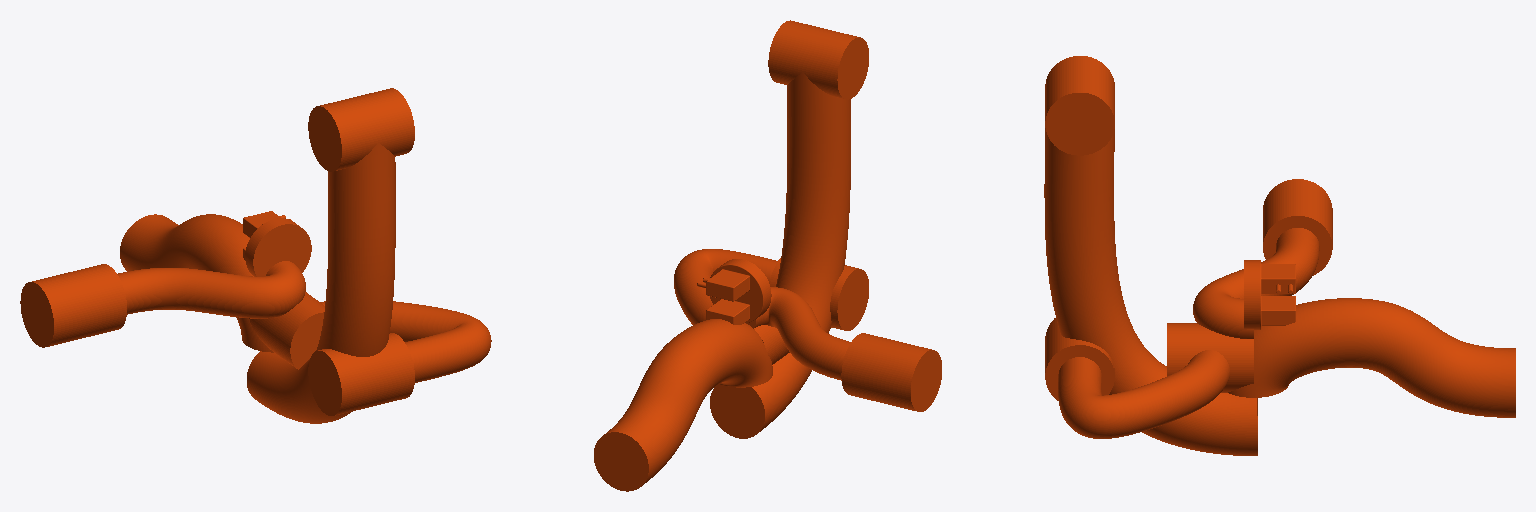
URDF robot description (iiwa7):
<?xml version='1.0' encoding='utf-8'?>
<robot name="iiwa7">
  <material name="Black">
    <color rgba="0.0 0.0 0.0 1.0" />
  </material>
  <material name="Blue">
    <color rgba="0.0 0.0 0.8 1.0" />
  </material>
  <material name="Green">
    <color rgba="0.0 0.8 0.0 1.0" />
  </material>
  <material name="Grey">
    <color rgba="0.4 0.4 0.4 1.0" />
  </material>
  <material name="Orange">
    <color rgba="1.0 0.4235294117647059 0.0392156862745098 1.0" />
  </material>
  <material name="Brown">
    <color rgba="0.8705882352941177 0.8117647058823529 0.7647058823529411 1.0" />
  </material>
  <material name="Red">
    <color rgba="0.8 0.0 0.0 1.0" />
  </material>
  <material name="White">
    <color rgba="1.0 1.0 1.0 1.0" />
  </material>
  <material name="Anthracite">
    <color rgba="0.16 0.17 0.19 1.0" />
  </material>
  <material name="MutedOrange">
    <color rgba="0.82 0.32 0.08 1.0" />
  </material>
  <material name="GreyishBlack">
    <color rgba="0.10 0.11 0.12 1.0" />
  </material>
  <link name="world" />
  <joint name="world_iiwa_joint" type="fixed">
    <origin rpy="0 0 0" xyz="0 0 0" />
    <parent link="world" />
    <child link="iiwa_link_0" />
  </joint>
  <link name="iiwa_link_0">
    <inertial>
      <origin rpy="0 0 0" xyz="-0.1 0 0.07" />
      <mass value="5" />
      <inertia ixx="0.05" ixy="0" ixz="0" iyy="0.06" iyz="0" izz="0.03" />
    </inertial>
    <visual>
      <origin rpy="0 0 0" xyz="0 0 0" />
      <geometry>
        <mesh filename="package://iiwa_description/meshes/iiwa7/visual/link_0.stl" />
      </geometry>
      <material name="Anthracite" />
    </visual>
    <collision>
      <origin rpy="0 0 0" xyz="0 0 0" />
      <geometry>
        <mesh filename="package://iiwa_description/meshes/iiwa7/collision/link_0.stl" />
      </geometry>
      <material name="Grey" />
    </collision>
    <self_collision_checking>
      <origin rpy="0 0 0" xyz="0 0 0" />
      <geometry>
        <capsule length="0.25" radius="0.15" />
      </geometry>
    </self_collision_checking>
  </link>
  <joint name="iiwa_joint_1" type="revolute">
    <parent link="iiwa_link_0" />
    <child link="iiwa_link_1" />
    <origin rpy="0 0 0" xyz="0 0 0.15" />
    <axis xyz="0 0 1" />
    <limit effort="300" lower="-2.9670597283903604" upper="2.9670597283903604" velocity="10" />
    <safety_controller k_position="100" k_velocity="2" soft_lower_limit="-2.9321531433504737" soft_upper_limit="2.9321531433504737" />
    <dynamics damping="0.5" />
  </joint>
  <link name="iiwa_link_1">
    <inertial>
      <origin rpy="0 0 0" xyz="0 -0.03 0.12" />
      <mass value="3.4525" />
      <inertia ixx="0.02183" ixy="0" ixz="0" iyy="0.007703" iyz="-0.003887" izz="0.02083" />
    </inertial>
    <visual>
      <origin rpy="1.5707963267948966 0 0" xyz="0 0 -0.0075" />
      <geometry>
        <mesh filename="package://iiwa_description/meshes/iiwa7/visual/link_1.stl" />
      </geometry>
      <material name="MutedOrange" />
    </visual>
    <collision>
      <origin rpy="0 0 0" xyz="0 0 0.0075" />
      <geometry>
        <mesh filename="package://iiwa_description/meshes/iiwa7/collision/link_1.stl" />
      </geometry>
      <material name="Orange" />
    </collision>
  </link>
  <joint name="iiwa_joint_2" type="revolute">
    <parent link="iiwa_link_1" />
    <child link="iiwa_link_2" />
    <origin rpy="1.5707963267948966   0 3.141592653589793" xyz="0 0 0.19" />
    <axis xyz="0 0 1" />
    <limit effort="300" lower="-2.0943951023931953" upper="2.0943951023931953" velocity="10" />
    <safety_controller k_position="100" k_velocity="2" soft_lower_limit="-2.0594885173533086" soft_upper_limit="2.0594885173533086" />
    <dynamics damping="0.5" />
  </joint>
  <link name="iiwa_link_2">
    <inertial>
      <origin rpy="0 0 0" xyz="0.0003 0.059 0.042" />
      <mass value="3.4821" />
      <inertia ixx="0.02076" ixy="0" ixz="-0.003626" iyy="0.02179" iyz="0" izz="0.00779" />
    </inertial>
    <visual>
      <origin rpy="0 -1.5707963267948966 0" xyz="0 0 0" />
      <geometry>
        <mesh filename="package://iiwa_description/meshes/iiwa7/visual/link_2.stl" />
      </geometry>
      <material name="MutedOrange" />
    </visual>
    <collision>
      <origin rpy="0 0 0" xyz="0 0 0" />
      <geometry>
        <mesh filename="package://iiwa_description/meshes/iiwa7/collision/link_2.stl" />
      </geometry>
      <material name="Orange" />
    </collision>
  </link>
  <joint name="iiwa_joint_3" type="revolute">
    <parent link="iiwa_link_2" />
    <child link="iiwa_link_3" />
    <origin rpy="1.5707963267948966 0 3.141592653589793" xyz="0 0.21 0" />
    <axis xyz="0 0 1" />
    <limit effort="300" lower="-2.9670597283903604" upper="2.9670597283903604" velocity="10" />
    <safety_controller k_position="100" k_velocity="2" soft_lower_limit="-2.9321531433504737" soft_upper_limit="2.9321531433504737" />
    <dynamics damping="0.5" />
  </joint>
  <link name="iiwa_link_3">
    <inertial>
      <origin rpy="0 0 0" xyz="0 0.03 0.13" />
      <mass value="4.05623" />
      <inertia ixx="0.03204" ixy="0" ixz="0" iyy="0.00972" iyz="0.006227" izz="0.03042" />
    </inertial>
    <visual>
      <origin rpy="0 0 1.5707963267948966" xyz="0 0 0.026" />
      <geometry>
        <mesh filename="package://iiwa_description/meshes/iiwa7/visual/link_3.stl" />
      </geometry>
      <material name="MutedOrange" />
    </visual>
    <collision>
      <origin rpy="0 0 0" xyz="0 0 -0.026" />
      <geometry>
        <mesh filename="package://iiwa_description/meshes/iiwa7/collision/link_3.stl" />
      </geometry>
      <material name="Orange" />
    </collision>
  </link>
  <joint name="iiwa_joint_4" type="revolute">
    <parent link="iiwa_link_3" />
    <child link="iiwa_link_4" />
    <origin rpy="1.5707963267948966 0 0" xyz="0 0 0.19" />
    <axis xyz="0 0 1" />
    <limit effort="300" lower="-2.0943951023931953" upper="2.0943951023931953" velocity="10" />
    <safety_controller k_position="100" k_velocity="2" soft_lower_limit="-2.0594885173533086" soft_upper_limit="2.0594885173533086" />
    <dynamics damping="0.5" />
  </joint>
  <link name="iiwa_link_4">
    <inertial>
      <origin rpy="0 0 0" xyz="0 0.067 0.034" />
      <mass value="3.4822" />
      <inertia ixx="0.02178" ixy="0" ixz="0" iyy="0.02075" iyz="-0.003625" izz="0.007785" />
    </inertial>
    <visual>
      <origin rpy="0 0 0" xyz="0 0 0" />
      <geometry>
        <mesh filename="package://iiwa_description/meshes/iiwa7/visual/link_4.stl" />
      </geometry>
      <material name="MutedOrange" />
    </visual>
    <collision>
      <origin rpy="0 0 0" xyz="0 0 0" />
      <geometry>
        <mesh filename="package://iiwa_description/meshes/iiwa7/collision/link_4.stl" />
      </geometry>
      <material name="Orange" />
    </collision>
  </link>
  <joint name="iiwa_joint_5" type="revolute">
    <parent link="iiwa_link_4" />
    <child link="iiwa_link_5" />
    <origin rpy="-1.5707963267948966 3.141592653589793 0" xyz="0 0.21 0" />
    <axis xyz="0 0 1" />
    <limit effort="300" lower="-2.9670597283903604" upper="2.9670597283903604" velocity="10" />
    <safety_controller k_position="100" k_velocity="2" soft_lower_limit="-2.9321531433504737" soft_upper_limit="2.9321531433504737" />
    <dynamics damping="0.5" />
  </joint>
  <link name="iiwa_link_5">
    <inertial>
      <origin rpy="0 0 0" xyz="0.0001 0.021 0.076" />
      <mass value="2.1633" />
      <inertia ixx="0.01287" ixy="0" ixz="0" iyy="0.005708" iyz="-0.003946" izz="0.01112" />
    </inertial>
    <visual>
      <origin rpy="-1.5707963267948966 0 0" xyz="0 0 0.026" />
      <geometry>
        <mesh filename="package://iiwa_description/meshes/iiwa7/visual/link_5.stl" />
      </geometry>
      <material name="MutedOrange" />
    </visual>
    <collision>
      <origin rpy="0 0 0" xyz="0 0 -0.026" />
      <geometry>
        <mesh filename="package://iiwa_description/meshes/iiwa7/collision/link_5.stl" />
      </geometry>
      <material name="Orange" />
    </collision>
  </link>
  <joint name="iiwa_joint_6" type="revolute">
    <parent link="iiwa_link_5" />
    <child link="iiwa_link_6" />
    <origin rpy="1.5707963267948966 0 0" xyz="0 0.06070 0.19" />
    <axis xyz="0 0 1" />
    <limit effort="300" lower="-2.0943951023931953" upper="2.0943951023931953" velocity="10" />
    <safety_controller k_position="100" k_velocity="2" soft_lower_limit="-2.0594885173533086" soft_upper_limit="2.0594885173533086" />
    <dynamics damping="0.5" />
  </joint>
  <link name="iiwa_link_6">
    <inertial>
      <origin rpy="0 0 0" xyz="0 0.0006 0.0004" />
      <mass value="2.3466" />
      <inertia ixx="0.006509" ixy="0" ixz="0" iyy="0.006259" iyz="0.00031891" izz="0.004527" />
    </inertial>
    <visual>
      <origin rpy="0 0 0" xyz="0 0 0" />
      <geometry>
        <mesh filename="package://iiwa_description/meshes/iiwa7/visual/link_6.stl" />
      </geometry>
      <material name="MutedOrange" />
    </visual>
    <collision>
      <origin rpy="0 0 0" xyz="0 0 0" />
      <geometry>
        <mesh filename="package://iiwa_description/meshes/iiwa7/collision/link_6.stl" />
      </geometry>
      <material name="Orange" />
    </collision>
  </link>
  <joint name="iiwa_joint_7" type="revolute">
    <parent link="iiwa_link_6" />
    <child link="iiwa_link_7" />
    <origin rpy="-1.5707963267948966 3.141592653589793 0" xyz="0 0.081 0.06070" />
    <axis xyz="0 0 1" />
    <limit effort="300" lower="-3.0543261909900763" upper="3.0543261909900763" velocity="10" />
    <safety_controller k_position="100" k_velocity="2" soft_lower_limit="-3.01941960595019" soft_upper_limit="3.01941960595019" />
    <dynamics damping="0.5" />
  </joint>
  <link name="iiwa_link_7">
    <inertial>
      <origin rpy="0 0 0" xyz="0 0 0.02" />
      <mass value="3.129" />
      <inertia ixx="0.01464" ixy="0.0005912" ixz="0" iyy="0.01465" iyz="0" izz="0.002872" />
    </inertial>
    <visual>
      <origin rpy="0 0 -1.5707963267948966" xyz="0 0 0.0005" />
      <geometry>
        <mesh filename="package://iiwa_description/meshes/iiwa7/visual/link_7.stl" />
      </geometry>
      <material name="GreyishBlack" />
    </visual>
    <collision>
      <origin rpy="0 0 0" xyz="0 0 -0.0005" />
      <geometry>
        <mesh filename="package://iiwa_description/meshes/iiwa7/collision/link_7.stl" />
      </geometry>
      <material name="Grey" />
    </collision>
  </link>
  <joint name="iiwa_joint_ee" type="fixed">
    <parent link="iiwa_link_7" />
    <child link="iiwa_link_ee" />
    <origin rpy="0 0 0" xyz="0 0 0.045" />
  </joint>
  <link name="iiwa_link_ee">
    </link>
  <gazebo reference="iiwa_link_0">
    <material>Gazebo/Grey</material>
    <mu1>0.2</mu1>
    <mu2>0.2</mu2>
  </gazebo>
  <gazebo reference="iiwa_link_1">
    <material>Gazebo/Orange</material>
    <mu1>0.2</mu1>
    <mu2>0.2</mu2>
  </gazebo>
  <gazebo reference="iiwa_link_2">
    <material>Gazebo/Orange</material>
    <mu1>0.2</mu1>
    <mu2>0.2</mu2>
  </gazebo>
  <gazebo reference="iiwa_link_3">
    <material>Gazebo/Orange</material>
    <mu1>0.2</mu1>
    <mu2>0.2</mu2>
  </gazebo>
  <gazebo reference="iiwa_link_4">
    <material>Gazebo/Orange</material>
    <mu1>0.2</mu1>
    <mu2>0.2</mu2>
  </gazebo>
  <gazebo reference="iiwa_link_5">
    <material>Gazebo/Orange</material>
    <mu1>0.2</mu1>
    <mu2>0.2</mu2>
  </gazebo>
  <gazebo reference="iiwa_link_6">
    <material>Gazebo/Orange</material>
    <mu1>0.2</mu1>
    <mu2>0.2</mu2>
  </gazebo>
  <gazebo reference="iiwa_link_7">
    <material>Gazebo/Grey</material>
    <mu1>0.2</mu1>
    <mu2>0.2</mu2>
  </gazebo>
  <transmission name="iiwa_tran_1">
    <robotNamespace>/iiwa</robotNamespace>
    <type>transmission_interface/SimpleTransmission</type>
    <joint name="iiwa_joint_1">
      <hardwareInterface>PositionJointInterface</hardwareInterface>
    </joint>
    <actuator name="iiwa_motor_1">
      <hardwareInterface>PositionJointInterface</hardwareInterface>
      <mechanicalReduction>1</mechanicalReduction>
    </actuator>
  </transmission>
  <transmission name="iiwa_tran_2">
    <robotNamespace>/iiwa</robotNamespace>
    <type>transmission_interface/SimpleTransmission</type>
    <joint name="iiwa_joint_2">
      <hardwareInterface>PositionJointInterface</hardwareInterface>
    </joint>
    <actuator name="iiwa_motor_2">
      <hardwareInterface>PositionJointInterface</hardwareInterface>
      <mechanicalReduction>1</mechanicalReduction>
    </actuator>
  </transmission>
  <transmission name="iiwa_tran_3">
    <robotNamespace>/iiwa</robotNamespace>
    <type>transmission_interface/SimpleTransmission</type>
    <joint name="iiwa_joint_3">
      <hardwareInterface>PositionJointInterface</hardwareInterface>
    </joint>
    <actuator name="iiwa_motor_3">
      <hardwareInterface>PositionJointInterface</hardwareInterface>
      <mechanicalReduction>1</mechanicalReduction>
    </actuator>
  </transmission>
  <transmission name="iiwa_tran_4">
    <robotNamespace>/iiwa</robotNamespace>
    <type>transmission_interface/SimpleTransmission</type>
    <joint name="iiwa_joint_4">
      <hardwareInterface>PositionJointInterface</hardwareInterface>
    </joint>
    <actuator name="iiwa_motor_4">
      <hardwareInterface>PositionJointInterface</hardwareInterface>
      <mechanicalReduction>1</mechanicalReduction>
    </actuator>
  </transmission>
  <transmission name="iiwa_tran_5">
    <robotNamespace>/iiwa</robotNamespace>
    <type>transmission_interface/SimpleTransmission</type>
    <joint name="iiwa_joint_5">
      <hardwareInterface>PositionJointInterface</hardwareInterface>
    </joint>
    <actuator name="iiwa_motor_5">
      <hardwareInterface>PositionJointInterface</hardwareInterface>
      <mechanicalReduction>1</mechanicalReduction>
    </actuator>
  </transmission>
  <transmission name="iiwa_tran_6">
    <robotNamespace>/iiwa</robotNamespace>
    <type>transmission_interface/SimpleTransmission</type>
    <joint name="iiwa_joint_6">
      <hardwareInterface>PositionJointInterface</hardwareInterface>
    </joint>
    <actuator name="iiwa_motor_6">
      <hardwareInterface>PositionJointInterface</hardwareInterface>
      <mechanicalReduction>1</mechanicalReduction>
    </actuator>
  </transmission>
  <transmission name="iiwa_tran_7">
    <robotNamespace>/iiwa</robotNamespace>
    <type>transmission_interface/SimpleTransmission</type>
    <joint name="iiwa_joint_7">
      <hardwareInterface>PositionJointInterface</hardwareInterface>
    </joint>
    <actuator name="iiwa_motor_7">
      <hardwareInterface>PositionJointInterface</hardwareInterface>
      <mechanicalReduction>1</mechanicalReduction>
    </actuator>
  </transmission>
</robot>

--- What the picture shows (computed from the rendered views, not written in the file) ---
Views: 3 orthographic renders of the robot side by side, from view 1: azimuth 30°, elevation 25°; view 2: azimuth 150°, elevation 25°; view 3: azimuth 270°, elevation 25°.
Model iiwa7 with 10 links and 9 joints (7 revolute, 2 fixed), rooted at world, posed all joints at 0.
Visible links, largest first — view 1: iiwa_link_2, iiwa_link_4, iiwa_link_5, iiwa_link_3, iiwa_link_6; view 2: iiwa_link_2, iiwa_link_3, iiwa_link_5, iiwa_link_4, iiwa_link_6; view 3: iiwa_link_2, iiwa_link_3, iiwa_link_4, iiwa_link_5, iiwa_link_6.
Link boxes in pixels (x1=…): iiwa_link_2: x1=247, y1=88, x2=414, y2=423; iiwa_link_4: x1=249, y1=292, x2=491, y2=415; iiwa_link_5: x1=20, y1=261, x2=305, y2=347; iiwa_link_3: x1=120, y1=214, x2=273, y2=352; iiwa_link_6: x1=243, y1=211, x2=311, y2=276; iiwa_link_2: x1=710, y1=20, x2=868, y2=438; iiwa_link_3: x1=594, y1=319, x2=772, y2=491; iiwa_link_5: x1=747, y1=287, x2=941, y2=411; iiwa_link_4: x1=674, y1=249, x2=868, y2=364; iiwa_link_6: x1=697, y1=259, x2=771, y2=324; iiwa_link_2: x1=1044, y1=56, x2=1257, y2=455; iiwa_link_3: x1=1228, y1=298, x2=1515, y2=417; iiwa_link_4: x1=1045, y1=318, x2=1253, y2=438; iiwa_link_5: x1=1193, y1=179, x2=1332, y2=338; iiwa_link_6: x1=1244, y1=260, x2=1295, y2=329.
Size in the robot's own frame: 2.43 by 2.7 by 2.4 metres.
Meshes: 8 distinct files referenced, 5 mesh visuals loaded (5 binary STL); not drawn: 3 (reference not matched to a file when rendering).
